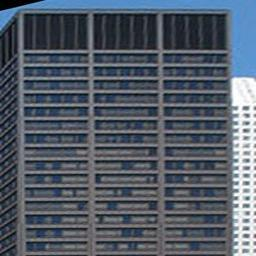building: (19, 10, 232, 256)
